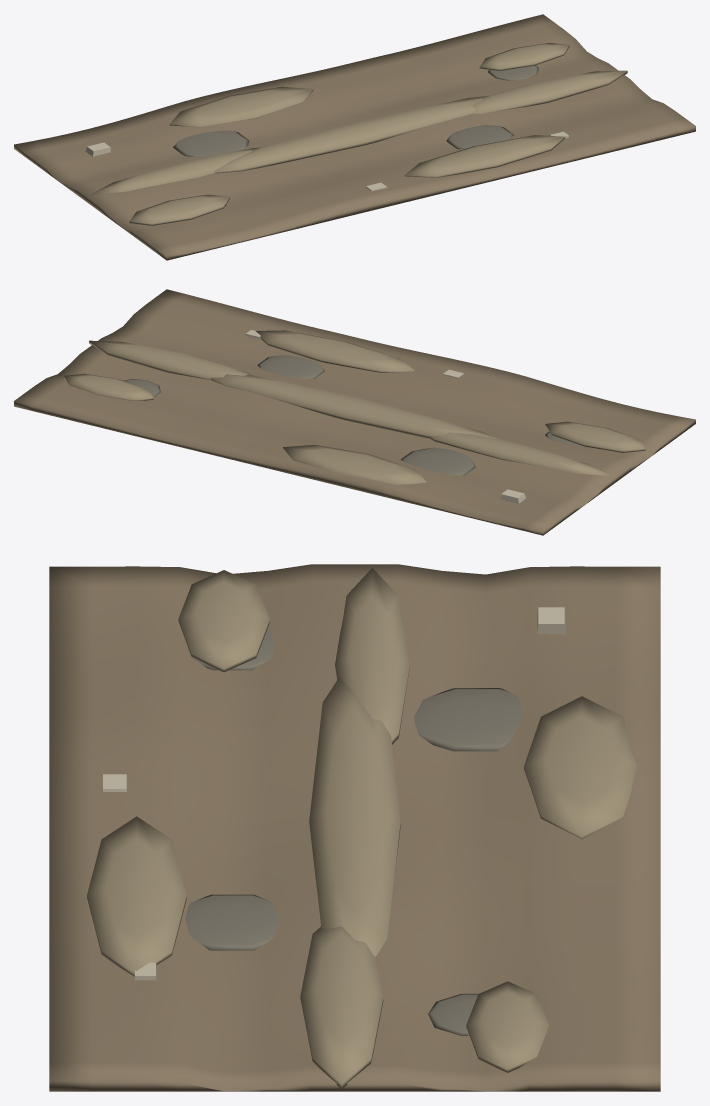
Rendered from mud_rut_patch.glb.
The picture shows the model from 3 angles, top to bottom: view 1: azimuth 30°, elevation 25°; view 2: azimuth 150°, elevation 25°; view 3: azimuth 270°, elevation 25°; orthographic projection. The views are drawn at different scales.
Parts seen in each view (by area): view 1: Rut_Base, Rut_Ridges, Rut_Puddles, Rut_Pebbles; view 2: Rut_Base, Rut_Ridges, Rut_Puddles, Rut_Pebbles; view 3: Rut_Base, Rut_Ridges, Rut_Puddles, Rut_Pebbles.
Part boxes in pixels (x1,y1,x2,y2): Rut_Base: (14, 14, 695, 260); Rut_Ridges: (91, 42, 627, 225); Rut_Puddles: (173, 65, 538, 214); Rut_Pebbles: (85, 131, 569, 191); Rut_Base: (14, 289, 695, 535); Rut_Ridges: (64, 330, 645, 484); Rut_Puddles: (124, 355, 583, 475); Rut_Pebbles: (245, 330, 525, 503); Rut_Base: (49, 564, 660, 1091); Rut_Ridges: (87, 568, 636, 1088); Rut_Puddles: (185, 628, 521, 1035); Rut_Pebbles: (102, 607, 565, 980).
Bounding box in the file's own units: 2.83 × 0.065 × 1.4.
